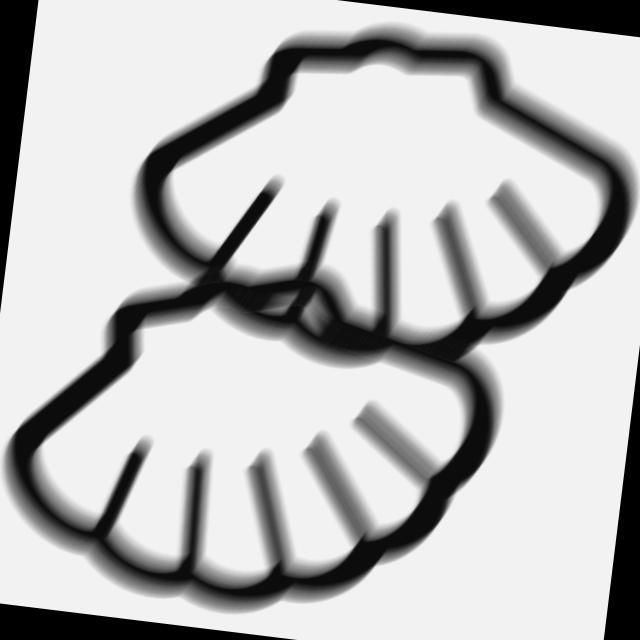shell: (1, 226, 526, 640), (103, 1, 640, 400)
